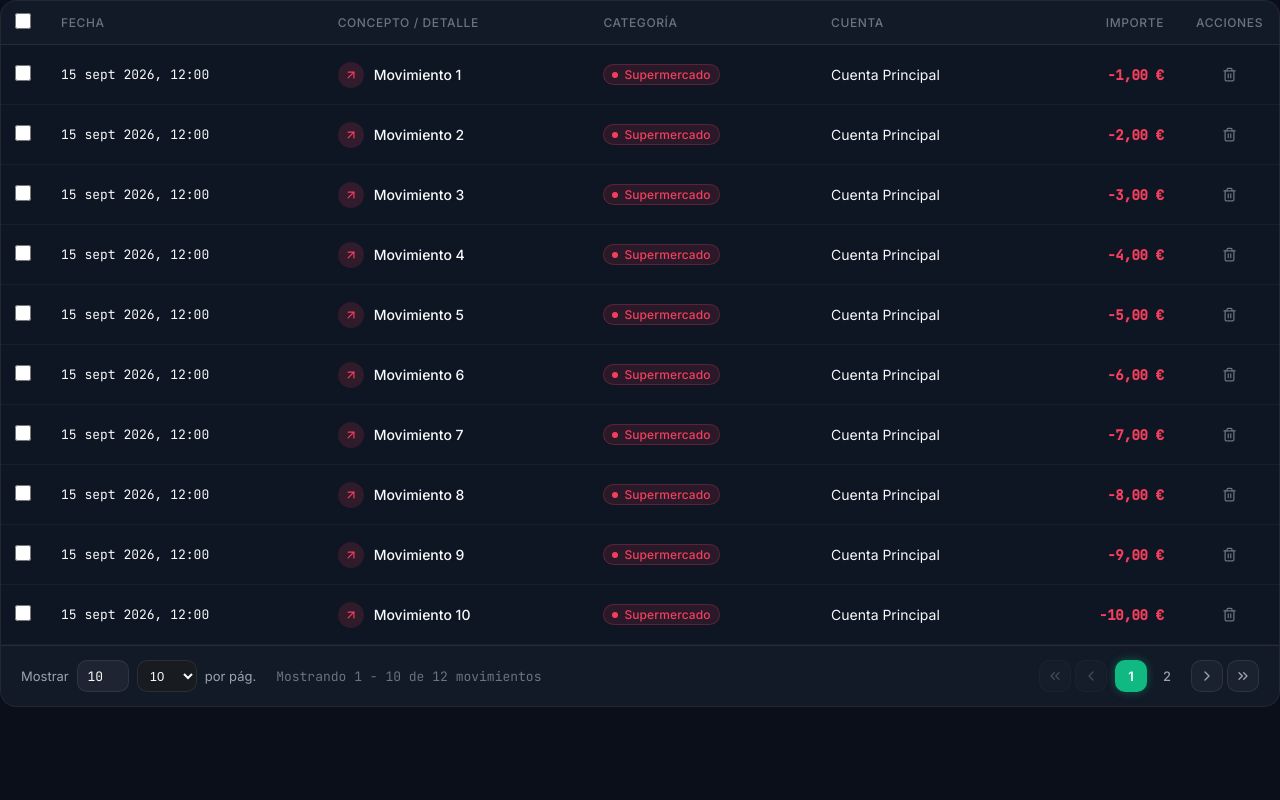
Test: TransactionTable Pagination › en modo cliente no controlado, pagina correctamente la lista en memoria
Expected: the text "Movimiento 1" is shown, [374,66,461,83]
Expected: the text "Movimiento 10" is shown, [374,606,470,623]
Navegar a la página 2
Click the button named "Página siguiente" at (1207, 676), box [1191,660,1223,692]
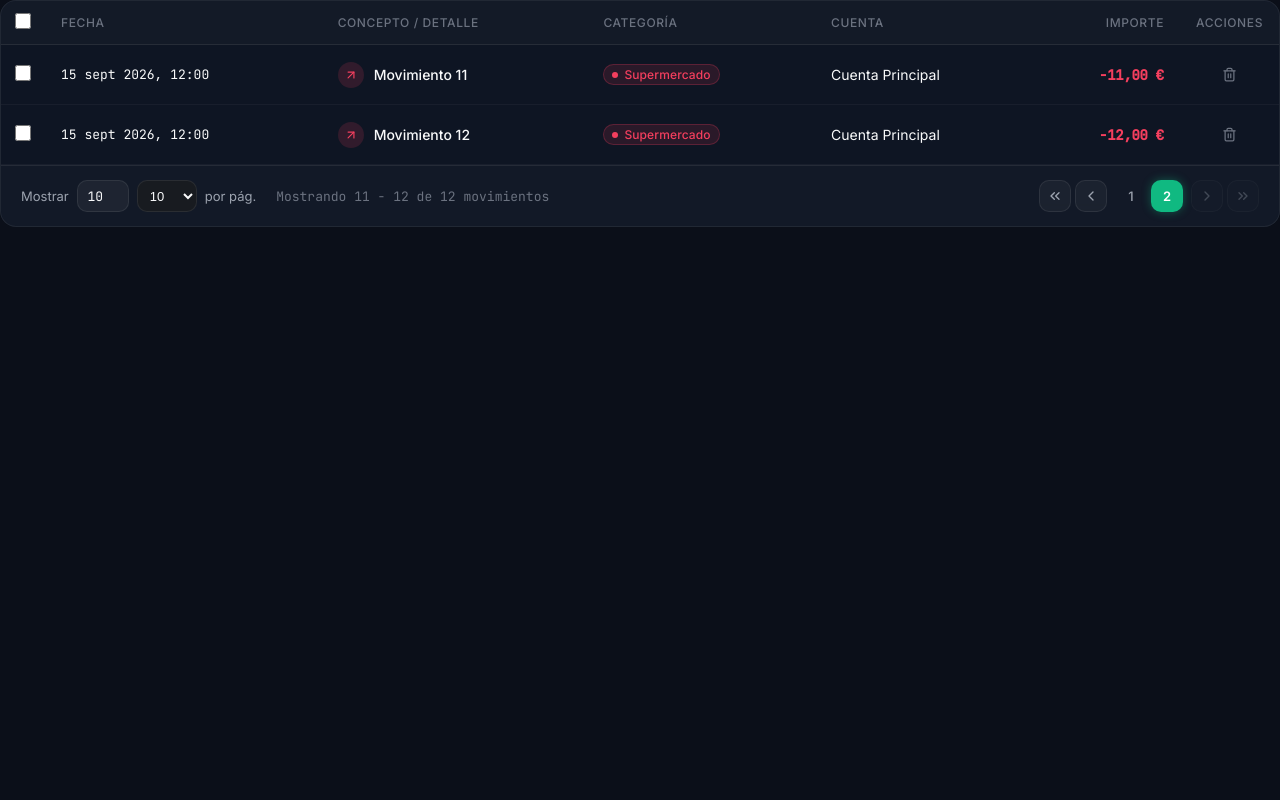
Expected: the text "Movimiento 11" is shown, [374,66,467,83]
Expected: the text "Movimiento 12" is shown, [374,126,470,143]
Expected: the text "Mostrando 11 - 12 de 12 movimientos" is shown, [276,188,549,204]
